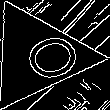O_SW: (1, 25, 75, 88)
